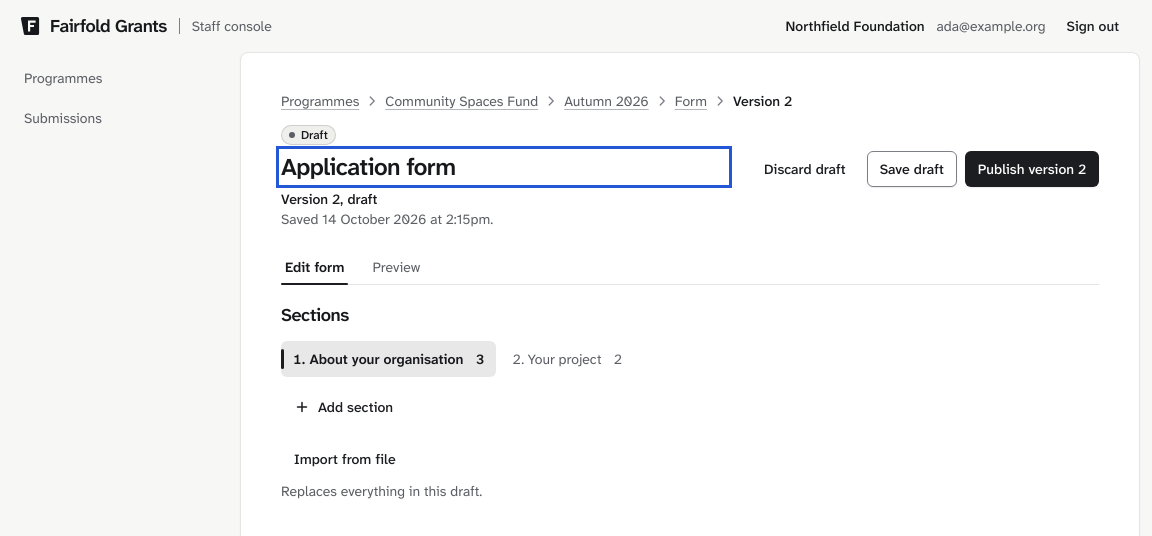
the problems of a draft › stay quiet while the form is built, then show beside each box and in a summary, and send nothing
Expected: the heading "Application form" is shown, [281,151,455,183]
Expected: the text "Version 2, draft" is shown, [281,190,377,208]
Click the button "Add section". click: (344, 407)
box: [281,389,406,425]
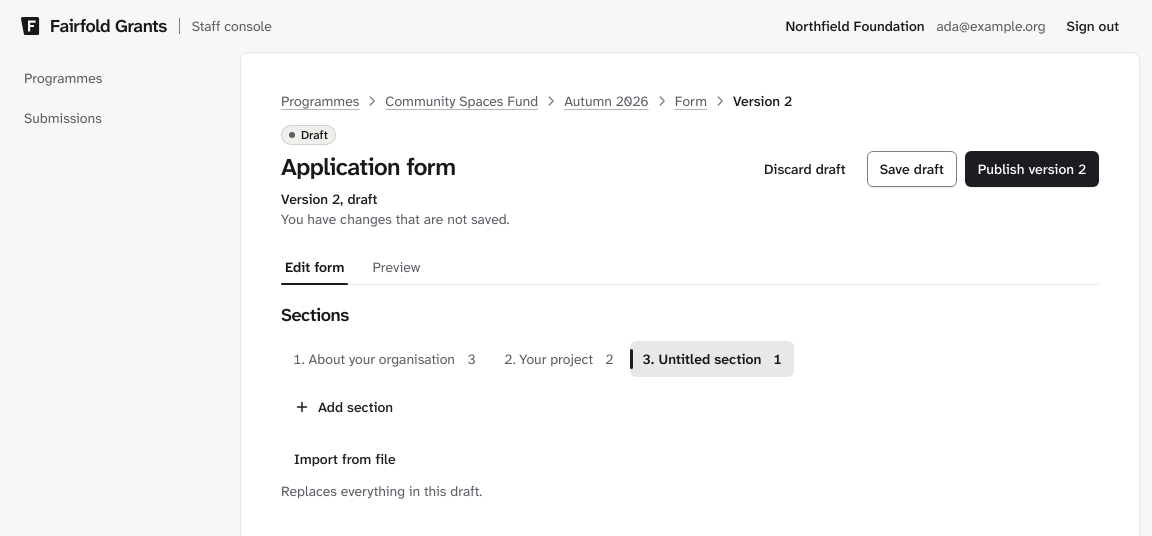
Expected: the text "Enter at least" is not shown
Click the button "Save draft". click: (912, 169)
box: [867,151,957,187]
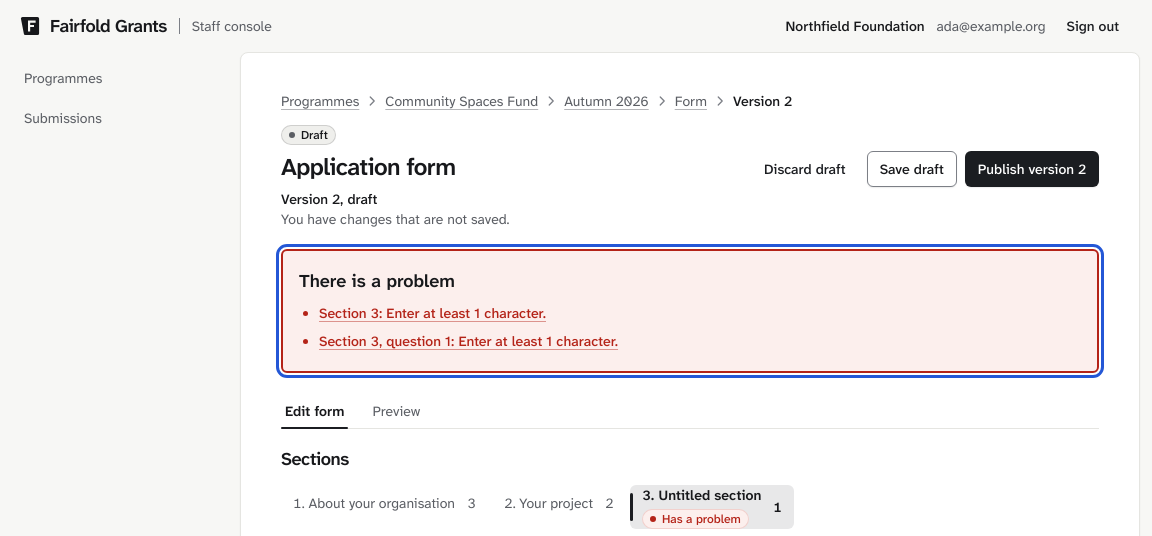
Now the links read "Section 3: Enter at least 1 character.", "Section 3, question 1: Enter at least 1 character.", in this order, box [319,304,546,322]; [319,332,618,350]
